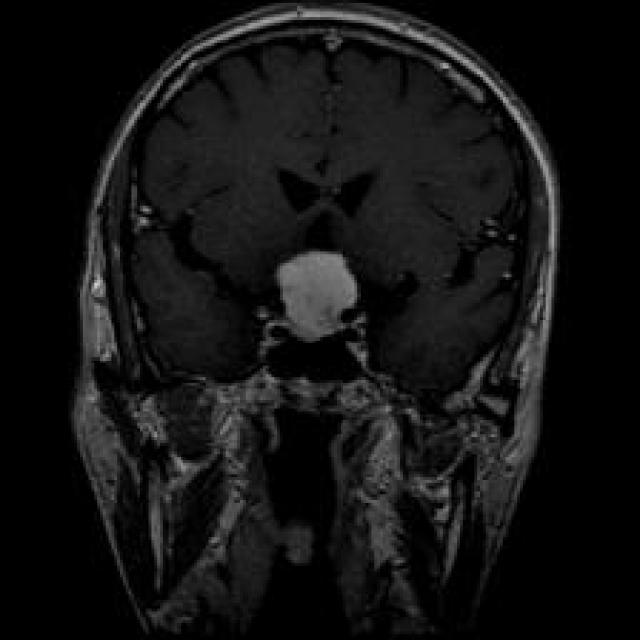meningioma_tumor: (244, 238, 384, 359)
